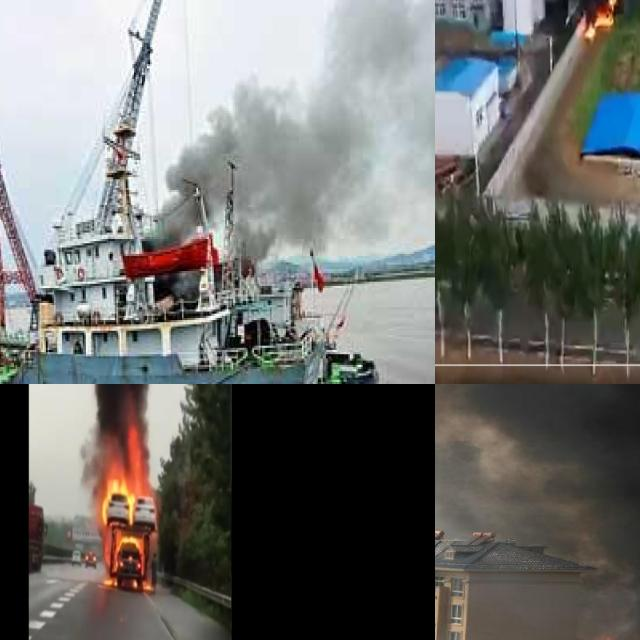fire: (97, 438, 156, 594), (581, 0, 623, 38)
smoke: (147, 0, 435, 254), (435, 384, 640, 640), (29, 384, 162, 446)
